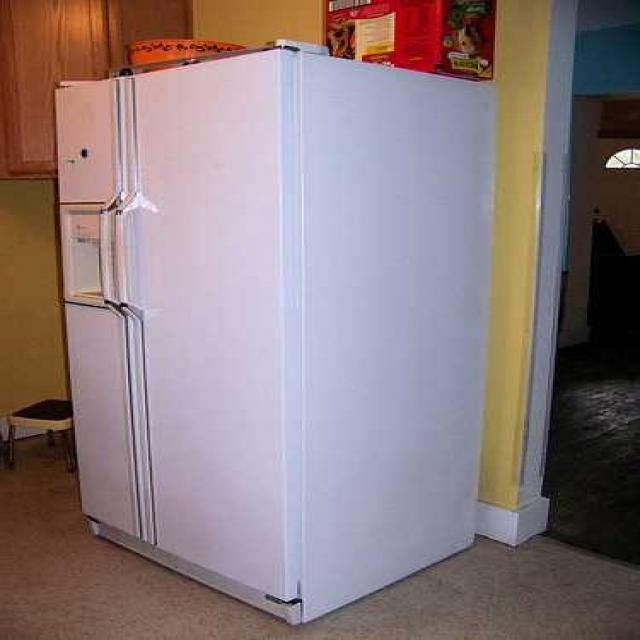refrigerator: (54, 43, 306, 619)
